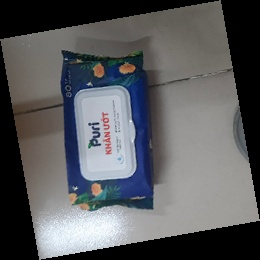Puri Xanh: (59, 48, 157, 214)
